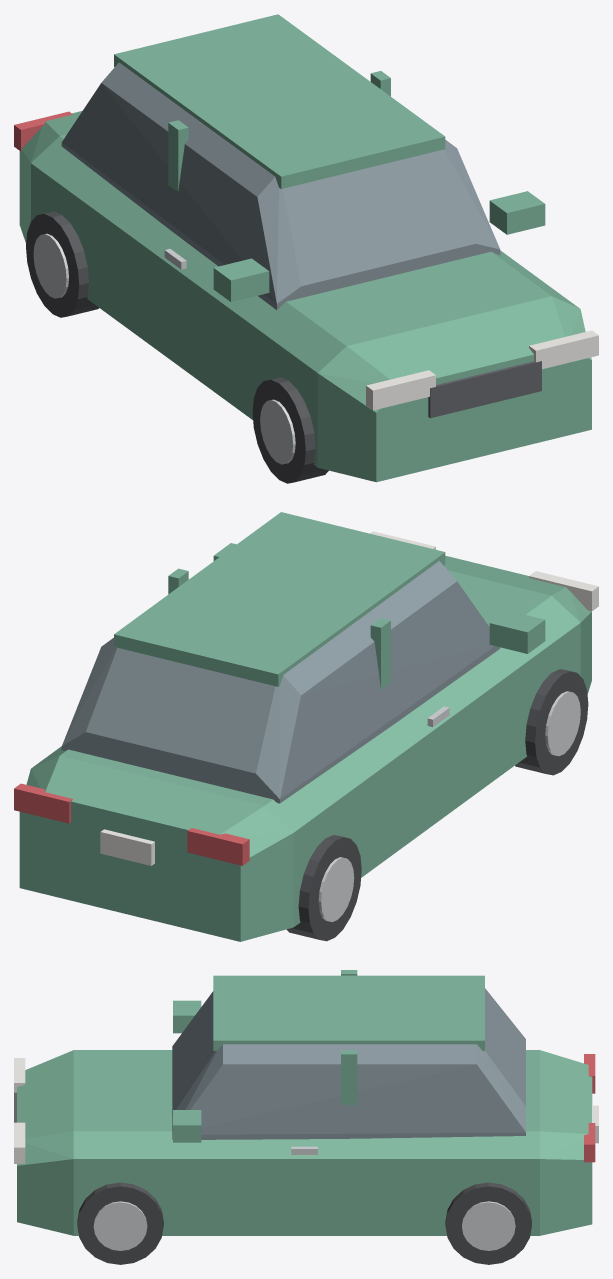
The model's file is civic-1998.glb.
The picture shows the model from 3 angles, top to bottom: view 1: azimuth 30°, elevation 25°; view 2: azimuth 150°, elevation 25°; view 3: azimuth 270°, elevation 25°; orthographic projection. The views are drawn at different scales.
Parts seen in each view (by area): view 1: body, cabin_glass, roof, wheel_-1_1_tire, grille, wheel_-1_-1_tire, mirror_-1, mirror_1, headlight_-1, wheel_-1_1_rim, wheel_-1_-1_rim, headlight_1 (+2 smaller); view 2: body, cabin_glass, roof, wheel_-1_-1_tire, wheel_-1_1_tire, mirror_-1, wheel_-1_1_rim, wheel_-1_-1_rim, taillight_-1, taillight_1, rear_plate, pillar_-1 (+1 smaller); view 3: body, cabin_glass, roof, wheel_1_-1_tire, wheel_1_1_tire, wheel_1_1_rim, wheel_1_-1_rim, mirror_1, pillar_1, mirror_-1, headlight_1, taillight_1.
Part boxes in pixels (x1,y1,x2,y2): body: (19,111,591,482); cabin_glass: (61,62,500,309); roof: (114,14,445,188); wheel_-1_1_tire: (252,377,328,483); grille: (428,361,541,418); wheel_-1_-1_tire: (26,211,98,317); mirror_-1: (213,258,269,301); mirror_1: (489,191,545,234); headlight_-1: (366,370,435,410); wheel_-1_1_rim: (260,399,295,464); wheel_-1_-1_rim: (33,233,68,298); headlight_1: (529,330,598,369); body: (19,555,591,941); cabin_glass: (61,561,500,803); roof: (114,512,445,686); wheel_-1_-1_tire: (286,835,361,941); wheel_-1_1_tire: (515,669,588,775); mirror_-1: (489,610,545,653); wheel_-1_1_rim: (545,691,580,756); wheel_-1_-1_rim: (318,857,354,921); taillight_-1: (187,828,249,865); taillight_1: (14,783,72,823); rear_plate: (100,829,154,865); pillar_-1: (370,618,390,690); body: (17,1050,592,1235); cabin_glass: (172,988,525,1139); roof: (213,975,484,1050); wheel_1_-1_tire: (445,1182,531,1264); wheel_1_1_tire: (77,1182,163,1264); wheel_1_1_rim: (93,1201,147,1250); wheel_1_-1_rim: (462,1201,515,1250); mirror_1: (173,1110,201,1142); pillar_1: (341,1050,357,1105); mirror_-1: (173,1000,201,1033); headlight_1: (14,1122,25,1163); taillight_1: (584,1123,595,1162).
Size of the model in its own units: 1.97 by 1.48 by 3.92.
